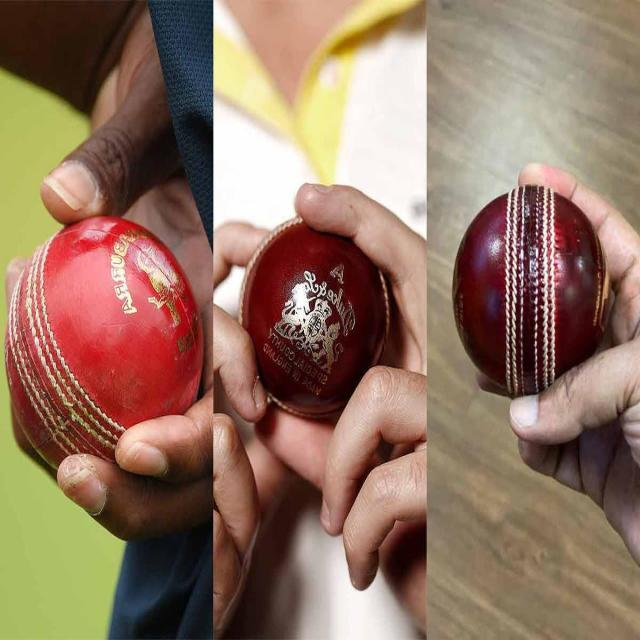ball: (5, 215, 205, 471), (452, 186, 610, 394), (237, 214, 399, 416)
